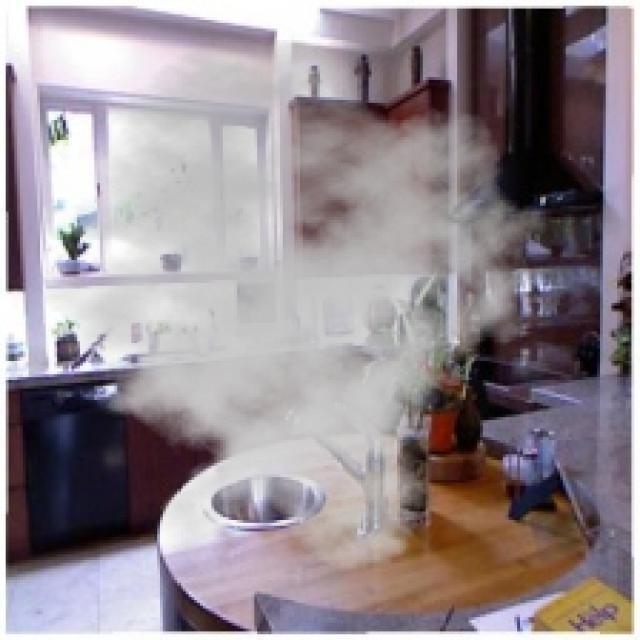Smoke: (11, 37, 560, 574)
